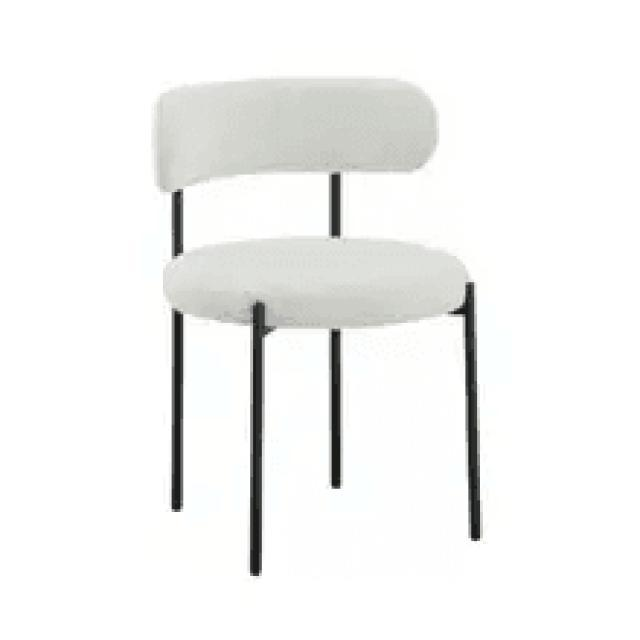chair: (143, 70, 491, 582), (153, 78, 470, 330)
